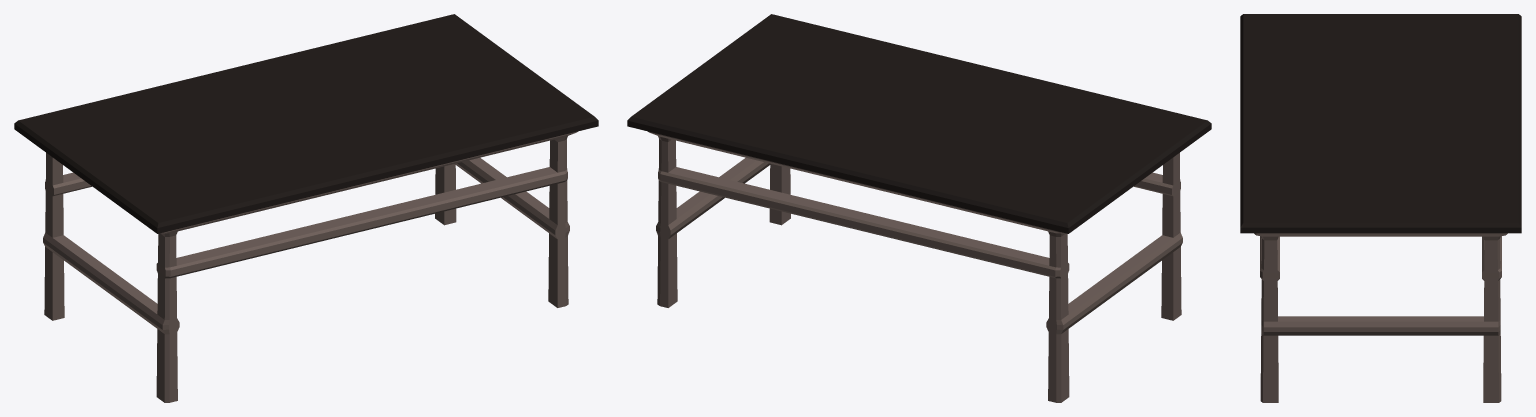
The model's file is Table.glb.
The picture shows the model from 3 angles, left to right: view 1: azimuth 30°, elevation 25°; view 2: azimuth 150°, elevation 25°; view 3: azimuth 270°, elevation 25°; orthographic projection.
Parts seen in each view (by area): view 1: TableTop; view 2: TableTop; view 3: TableTop.
Part boxes in pixels (x1,y1,x2,y2): TableTop: [14, 14, 598, 402]; TableTop: [627, 14, 1211, 402]; TableTop: [1240, 14, 1521, 402].
Bounding box in the file's own units: 1.18 × 0.4878 × 0.662.
